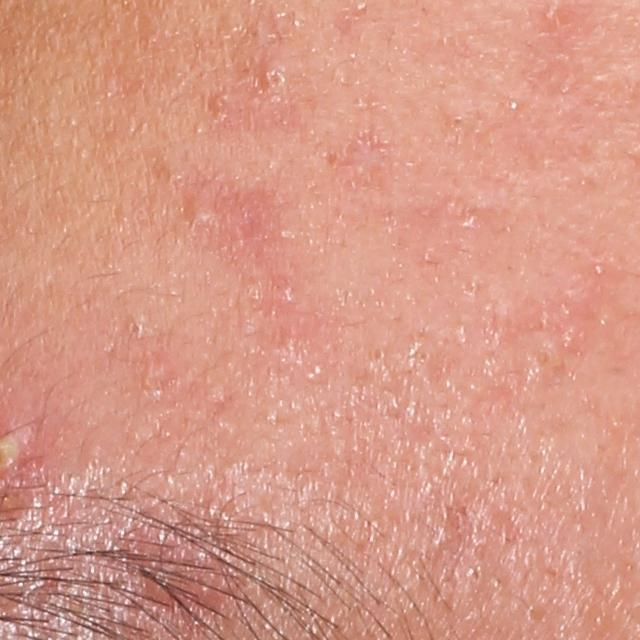comedo: (363, 343, 389, 368), (123, 317, 148, 342), (445, 113, 466, 134)
